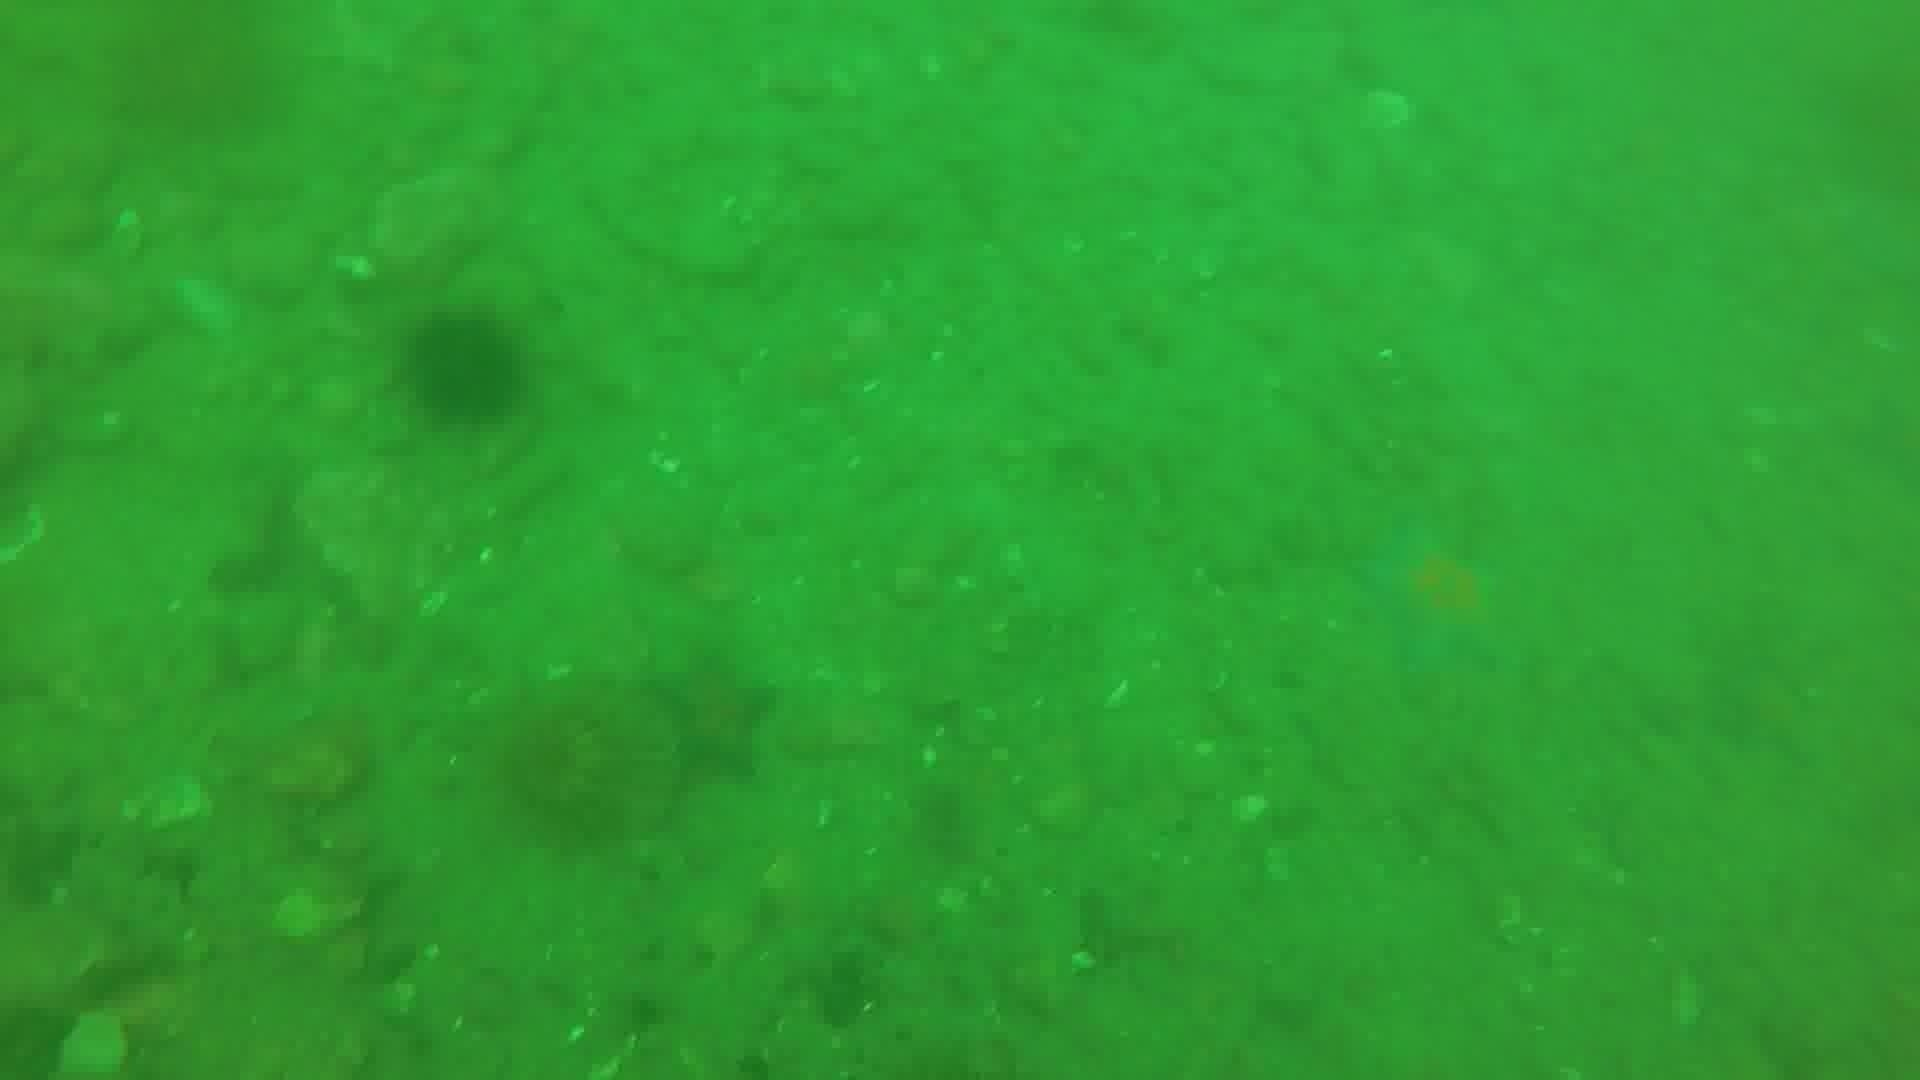echinus: (491, 679, 669, 853), (100, 8, 293, 145), (397, 307, 531, 431)
scallop: (121, 770, 214, 837), (54, 1007, 135, 1077)
starfish: (1348, 516, 1515, 686), (640, 645, 781, 789)
